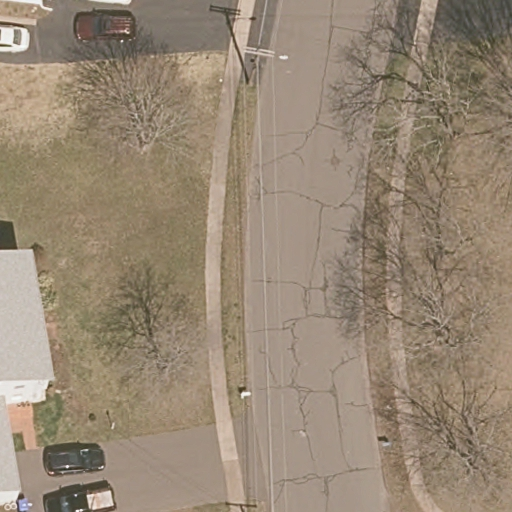DT: (242, 44, 275, 73)
